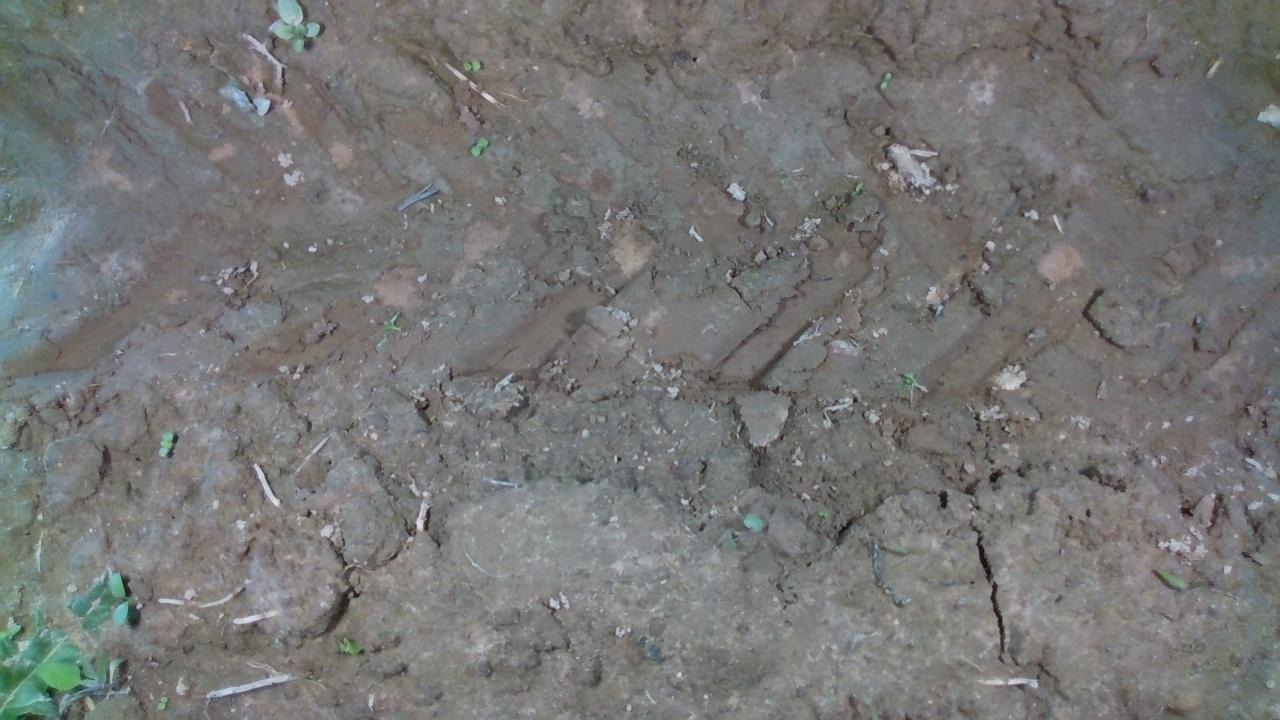weed: (155, 428, 173, 457), (469, 134, 489, 158), (878, 69, 892, 91), (461, 57, 481, 71)
